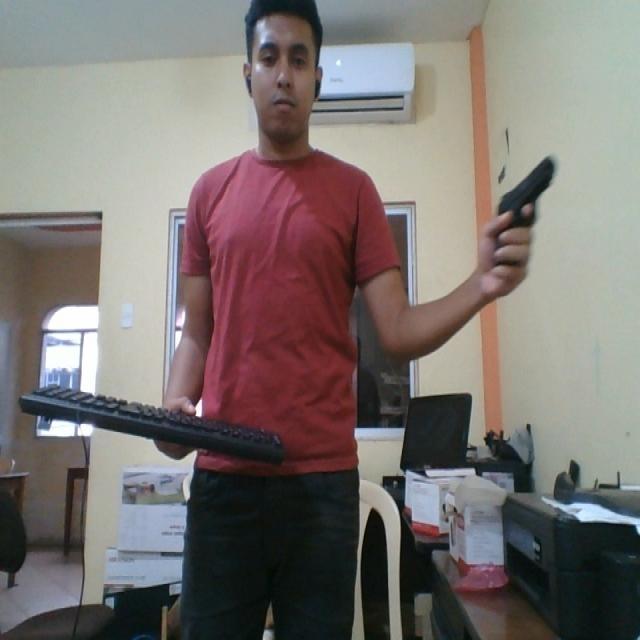weapon: (490, 152, 558, 250)
